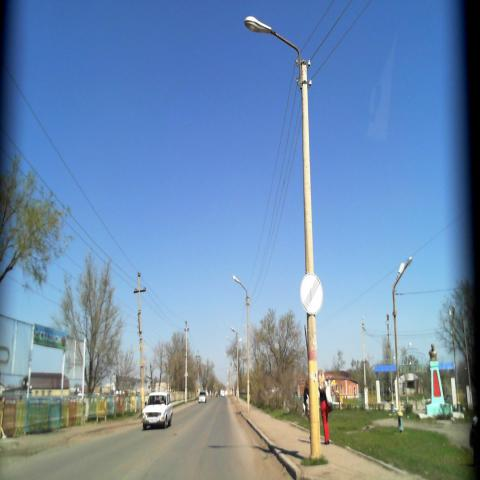3_31: (300, 272, 324, 316)
